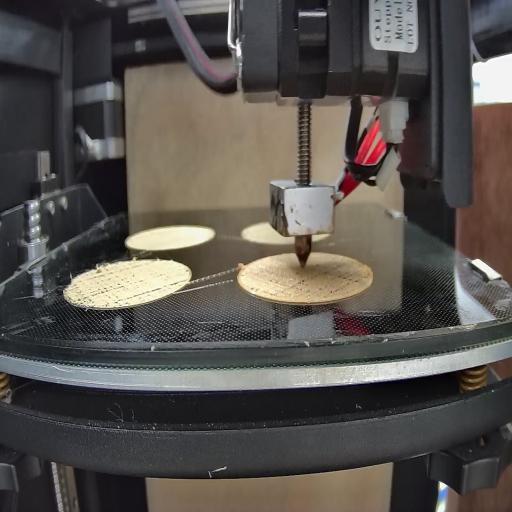under_extrusion: (68, 262, 162, 306), (283, 270, 371, 298), (243, 278, 279, 298), (167, 274, 188, 289)
